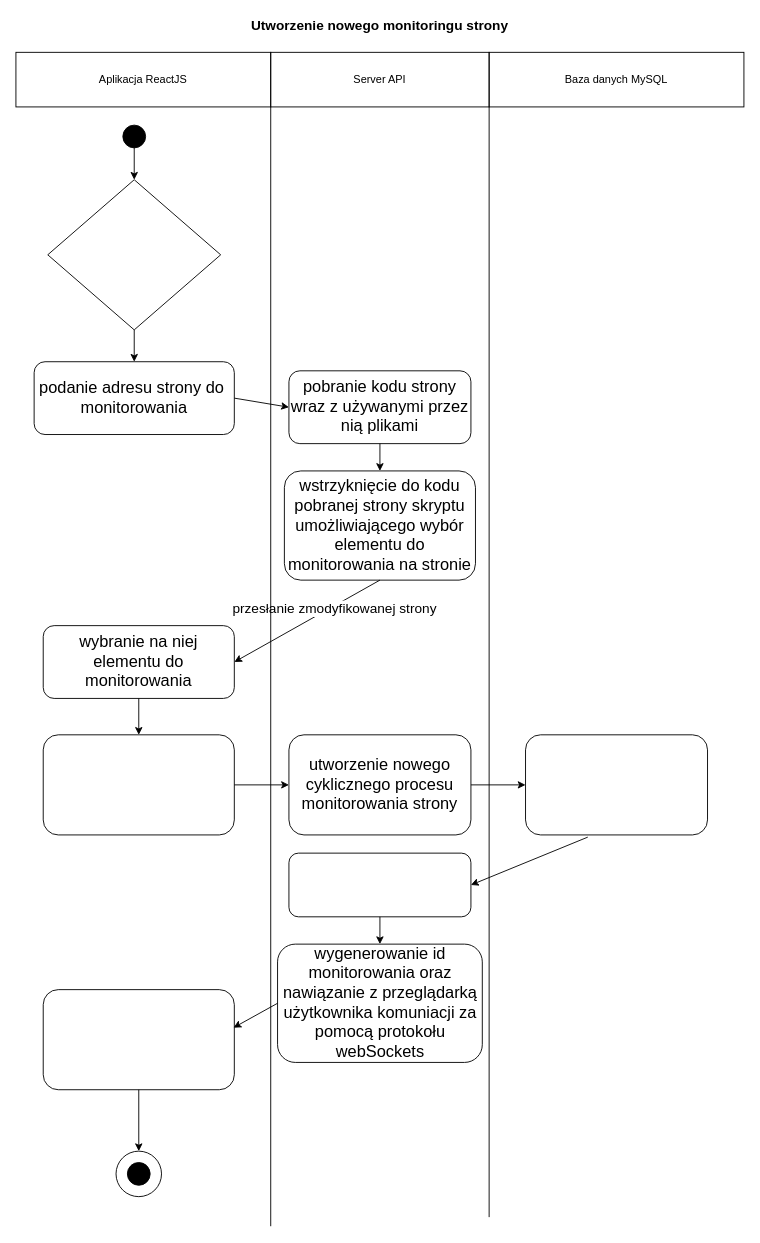
This 760x1243 diagram has some shape labels left out. The box of each missing label's shape, as (x1, y1, x2, y2) in pixels:
podanie parametrów nowego monitorowania (np. data jego wygaśnięcia, itp...): (42, 734, 234, 835)
potwierdzenie poprawnego zapisu w bazie: (288, 852, 471, 917)
użytkownik jest zalogowany: (47, 179, 221, 330)
wyświetlenie pokoju obserwacji, o adresie URL zawierającym id monitorowania: (42, 989, 234, 1090)
zapisanie danych monitorowania do bazy danych: (525, 734, 708, 835)
